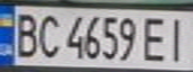4: (63, 11, 84, 60)
5: (100, 12, 121, 61)
6: (81, 12, 103, 61)
9: (115, 14, 142, 62)
B: (9, 9, 42, 58)
C: (36, 10, 63, 60)
E: (139, 14, 172, 62)
I: (163, 14, 193, 63)
